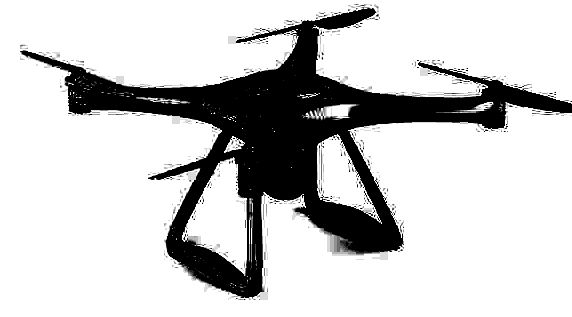Drone: (17, 1, 572, 301)
